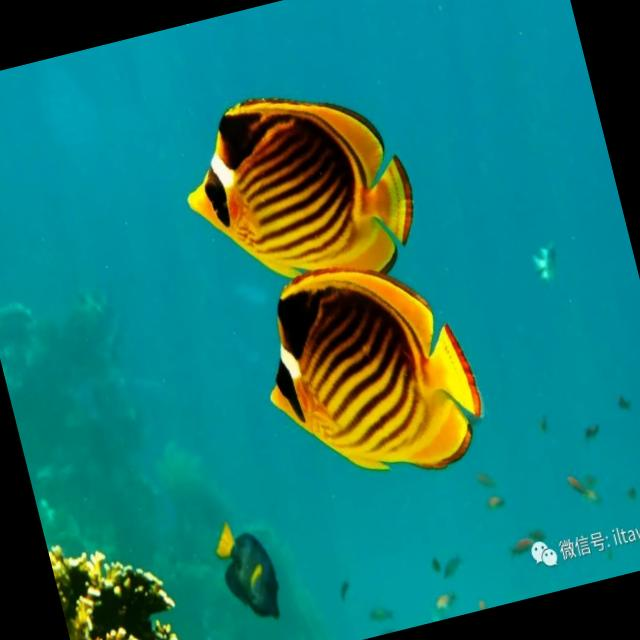ButterflyFish: (165, 62, 428, 314), (244, 240, 494, 500)
